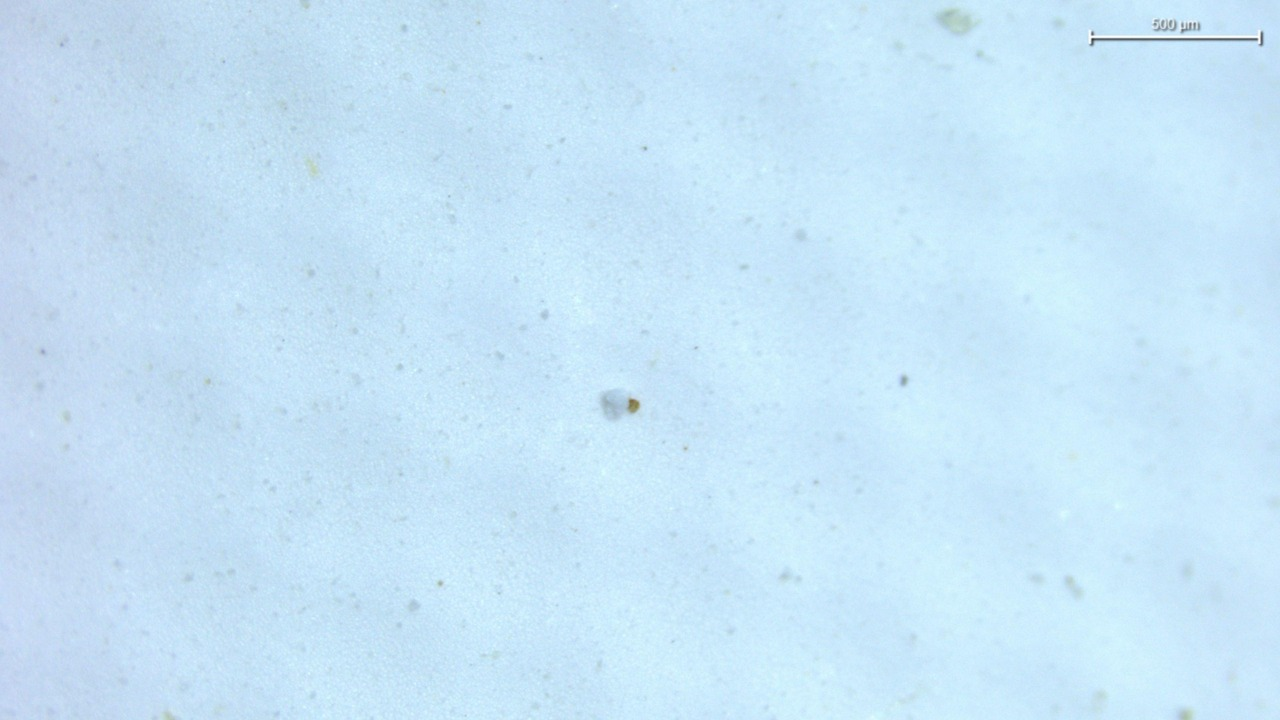microplastic_fragment: (600, 389, 639, 420)
